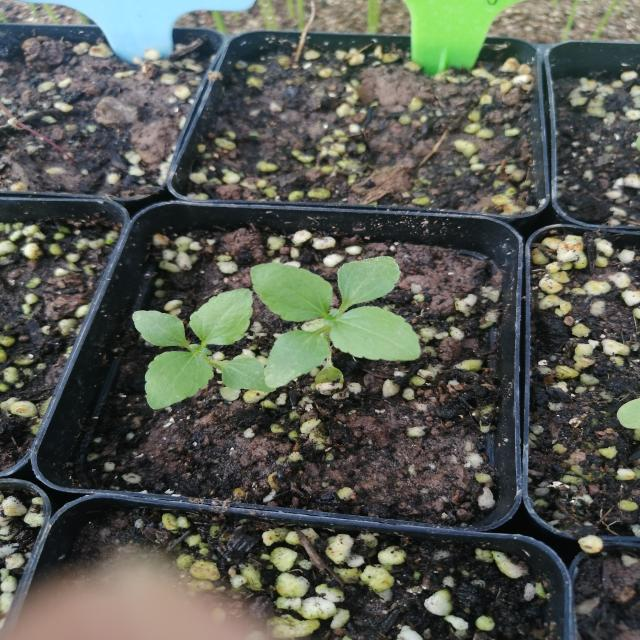billygoat_weed: (249, 241, 422, 377), (127, 282, 267, 404)
